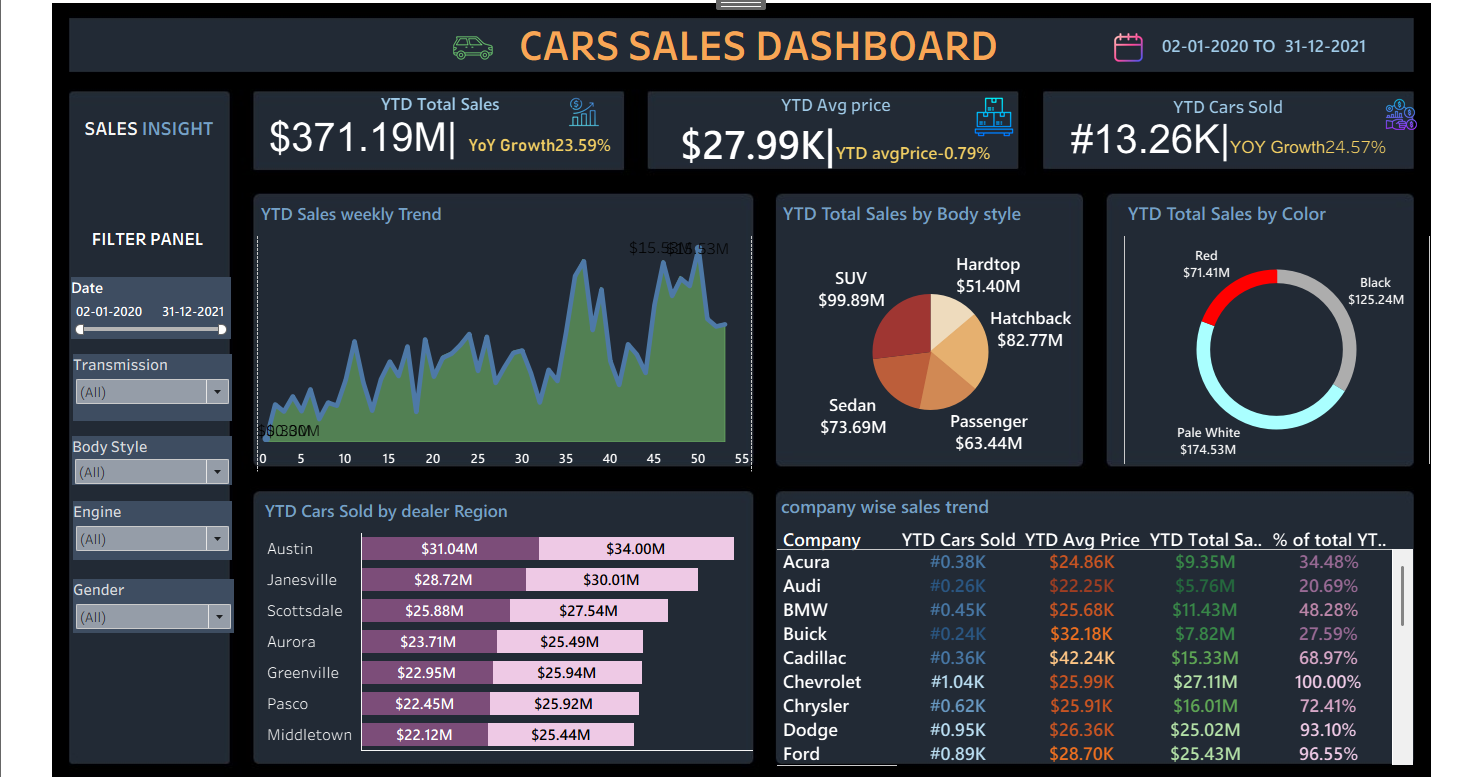

The dashboard page shown, as its layout file describes it:
{"tool":"tableau","page":{"name":"Dashboard 1","canvas":[1000,1000],"units":"permille","ordinal":0},"visuals":[{"type":"image","param":"Image/Car Sales Background.jpg","box":[4.8,9.6,893.8,980.7]},{"type":"legend","title":"YTD Cars Sold by dealer Region ","param":"[federated.16f3zyv02lt6481a1nhzl0ggm01s].[none:Transmission:nk]","box":[898.6,9.6,96.6,86.8]},{"type":"text","box":[292.1,33.8,339.8,65]},{"type":"worksheet","title":"Date Range","mark":"Automatic","box":[663.9,34.9,207.6,67.5]},{"type":"image","param":"Image/Car Icon.png","box":[263.7,41,51.9,59]},{"type":"image","param":"Image/calendar (1).png","box":[666.9,50.6,36.8,39.8]},{"type":"legend","title":"company wise sales trend ","param":"[federated.16f3zyv02lt6481a1nhzl0ggm01s].[usr:Calculation_574490469579550720:qk]","box":[898.6,96.4,96.6,95.2]},{"type":"worksheet","title":"YTD Total Sales","mark":"Automatic","box":[145.4,120.5,249.8,98.8]},{"type":"worksheet","title":"YTD Cars Sold","mark":"Automatic","box":[633.1,122.5,225.7,100]},{"type":"worksheet","title":"YTD Avg Price","mark":"Automatic","box":[396.5,126.2,224.5,100]},{"type":"image","param":"Image/Sales Icon.png","box":[341,130,31.4,41.2]},{"type":"image","param":"Image/Avg Price Icon.png","box":[589.6,131.3,29,51.8]},{"type":"image","param":"Image/Cars Sold Icon.png","box":[833.4,133.7,32.6,39.8]},{"type":"text","box":[36.8,142.2,82.1,37.4]},{"type":"legend","title":"company wise sales trend ","param":"[federated.16f3zyv02lt6481a1nhzl0ggm01s].[usr:Calculation_201817600564609024:qk]","box":[898.6,191.6,96.6,95.2]},{"type":"worksheet","title":"YTD Total Sales by Body style","mark":"Pie","box":[474.4,257.5,182.9,338.8]},{"type":"worksheet","title":"YTD Total Sales by Color","mark":"Pie","rows":["Calculation_238690822601134081","Calculation_238690822601211907"],"box":[682.6,257.8,184.7,333.7]},{"type":"worksheet","title":"YTD Sales weekly Trend","mark":"Area","rows":["Calculation_1195142793163198464","Calculation_1195142793163198464"],"cols":["Date"],"box":[159.3,258.8,298.7,343.8]},{"type":"text","box":[39.2,285.5,75.4,37.4]},{"type":"legend","title":"company wise sales trend ","param":"[federated.16f3zyv02lt6481a1nhzl0ggm01s].[usr:Calculation_1195142793163198464:qk","box":[898.6,286.8,96.6,95.2]},{"type":"filter","title":"YTD Sales weekly Trend","param":"[federated.16f3zyv02lt6481a1nhzl0ggm01s].[none:Date:qk]","box":[32,341,96.6,78.3]},{"type":"legend","title":"company wise sales trend ","param":"[federated.16f3zyv02lt6481a1nhzl0ggm01s].[pcrk:usr:Calculation_11951427931631984","box":[898.6,381.9,96.6,95.2]},{"type":"filter","title":"YTD Sales weekly Trend","param":"[federated.16f3zyv02lt6481a1nhzl0ggm01s].[none:Transmission:nk]","box":[31.4,450.6,96,80.7]},{"type":"filter","title":"YTD Sales weekly Trend","param":"[federated.16f3zyv02lt6481a1nhzl0ggm01s].[none:Body Style:nk]","box":[31.4,551.8,96.6,60.2]},{"type":"worksheet","title":"company wise sales trend ","mark":"Automatic","rows":["Company"],"box":[473.1,623.8,383.8,345]},{"type":"filter","title":"YTD Sales weekly Trend","param":"[federated.16f3zyv02lt6481a1nhzl0ggm01s].[none:Engine:nk]","box":[33.2,627.7,96,73.5]},{"type":"worksheet","title":"YTD Cars Sold by dealer Region ","mark":"Automatic","rows":["Dealer_Region"],"cols":["Calculation_1195142793163198464"],"box":[161.7,630,296.9,326.2]},{"type":"filter","title":"YTD Sales weekly Trend","param":"[federated.16f3zyv02lt6481a1nhzl0ggm01s].[none:Gender:nk]","box":[33.2,720.5,97.2,67.5]}]}

Visuals, with their boxes on the dashboard's canvas, which has no fixed pixel size, in thousandths of its width and height (x1, y1, x2, y2). These are canvas units, not pixel positions in the 1457x777 screenshot, which may show the page scaled, cropped or inside an application window:
image: [x1=5, y1=10, x2=899, y2=990]
"YTD Cars Sold by dealer Region " legend: [x1=899, y1=10, x2=995, y2=96]
text: [x1=292, y1=34, x2=632, y2=99]
"Date Range" worksheet: [x1=664, y1=35, x2=872, y2=102]
image: [x1=264, y1=41, x2=316, y2=100]
image: [x1=667, y1=51, x2=704, y2=90]
"company wise sales trend " legend: [x1=899, y1=96, x2=995, y2=192]
"YTD Total Sales" worksheet: [x1=145, y1=120, x2=395, y2=219]
"YTD Cars Sold" worksheet: [x1=633, y1=122, x2=859, y2=222]
"YTD Avg Price" worksheet: [x1=396, y1=126, x2=621, y2=226]
image: [x1=341, y1=130, x2=372, y2=171]
image: [x1=590, y1=131, x2=619, y2=183]
image: [x1=833, y1=134, x2=866, y2=174]
text: [x1=37, y1=142, x2=119, y2=180]
"company wise sales trend " legend: [x1=899, y1=192, x2=995, y2=287]
"YTD Total Sales by Body style" worksheet (Pie marks): [x1=474, y1=258, x2=657, y2=596]
"YTD Total Sales by Color" worksheet (Pie marks): [x1=683, y1=258, x2=867, y2=592]
"YTD Sales weekly Trend" worksheet (Area marks): [x1=159, y1=259, x2=458, y2=603]
text: [x1=39, y1=286, x2=115, y2=323]
"company wise sales trend " legend: [x1=899, y1=287, x2=995, y2=382]
"YTD Sales weekly Trend" filter: [x1=32, y1=341, x2=129, y2=419]
"company wise sales trend " legend: [x1=899, y1=382, x2=995, y2=477]
"YTD Sales weekly Trend" filter: [x1=31, y1=451, x2=127, y2=531]
"YTD Sales weekly Trend" filter: [x1=31, y1=552, x2=128, y2=612]
"company wise sales trend " worksheet: [x1=473, y1=624, x2=857, y2=969]
"YTD Sales weekly Trend" filter: [x1=33, y1=628, x2=129, y2=701]
"YTD Cars Sold by dealer Region " worksheet: [x1=162, y1=630, x2=459, y2=956]
"YTD Sales weekly Trend" filter: [x1=33, y1=720, x2=130, y2=788]
